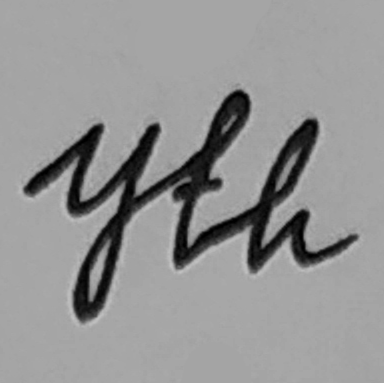h: (218, 144, 262, 227)
t: (179, 130, 227, 224)
y: (122, 143, 179, 251)
